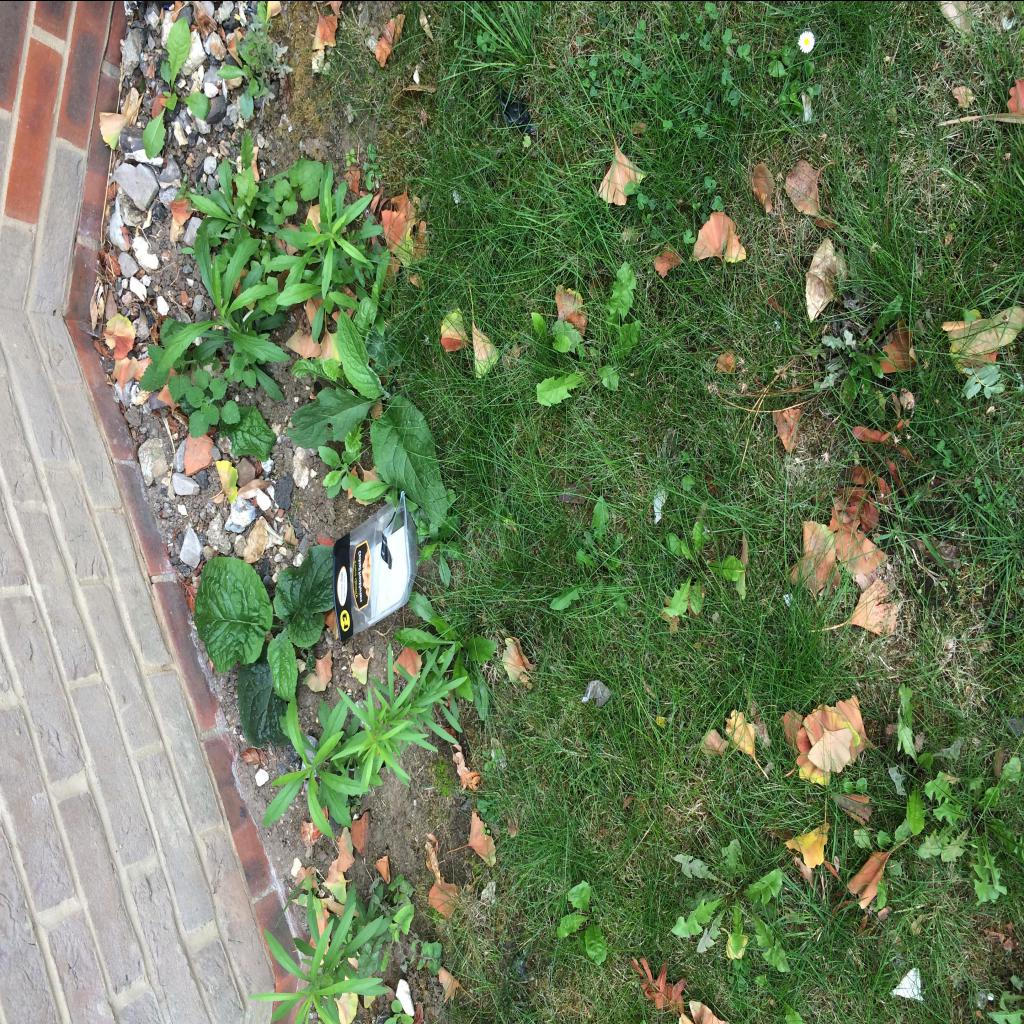Disposable food container: (332, 490, 418, 642)
Plastic film: (333, 490, 405, 642), (582, 680, 610, 706)
Unlabeled litter: (889, 968, 924, 1000)
